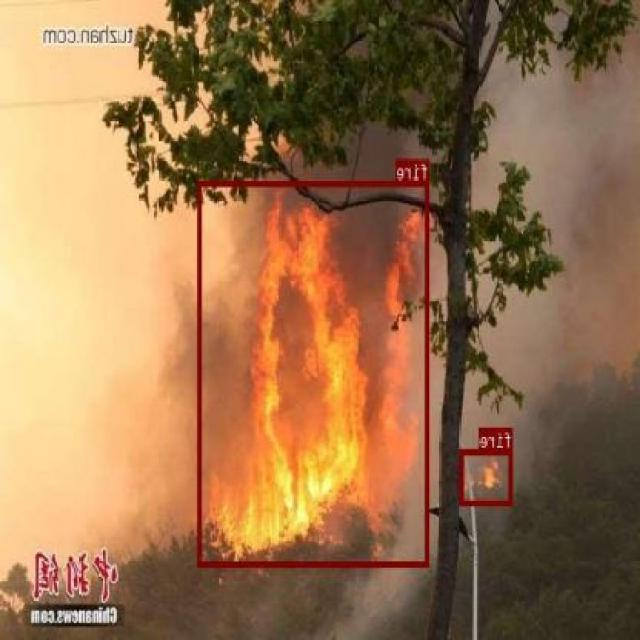Fire: (198, 180, 430, 566), (460, 448, 514, 504)
